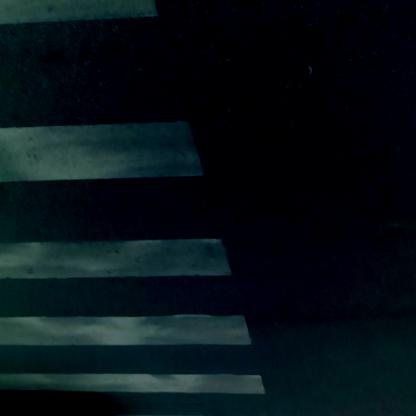crosswalk: (1, 2, 269, 405)
